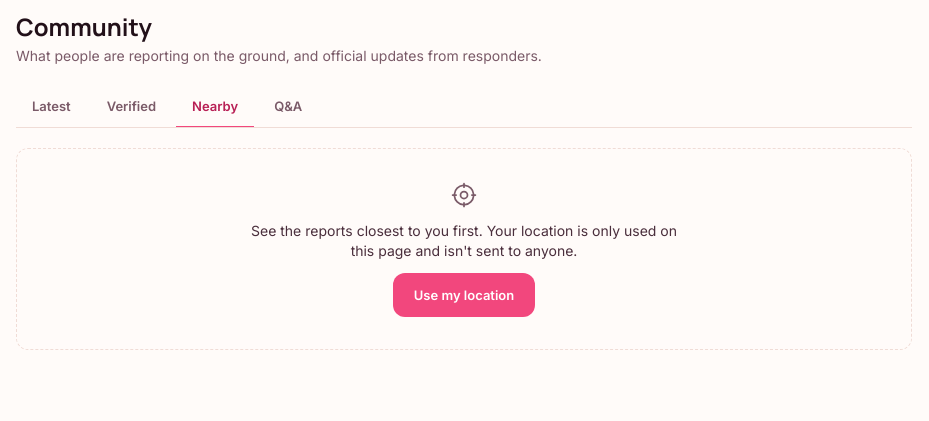
Scenario: CommunityPage — Nearby › explains a blocked location and lists nothing
Click the button named "Use my location": (464,295) x1=393 y1=273 x2=535 y2=317
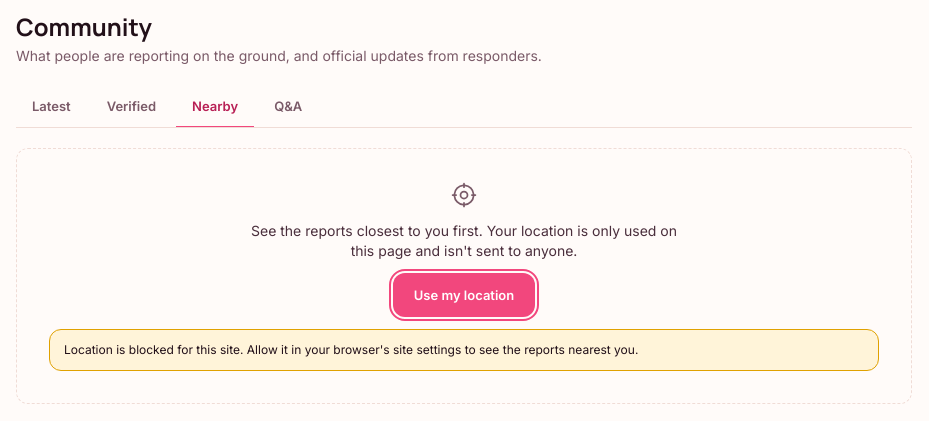
Expected: the message shows "Location is blocked for this site", x1=64 y1=342 x2=638 y2=357
